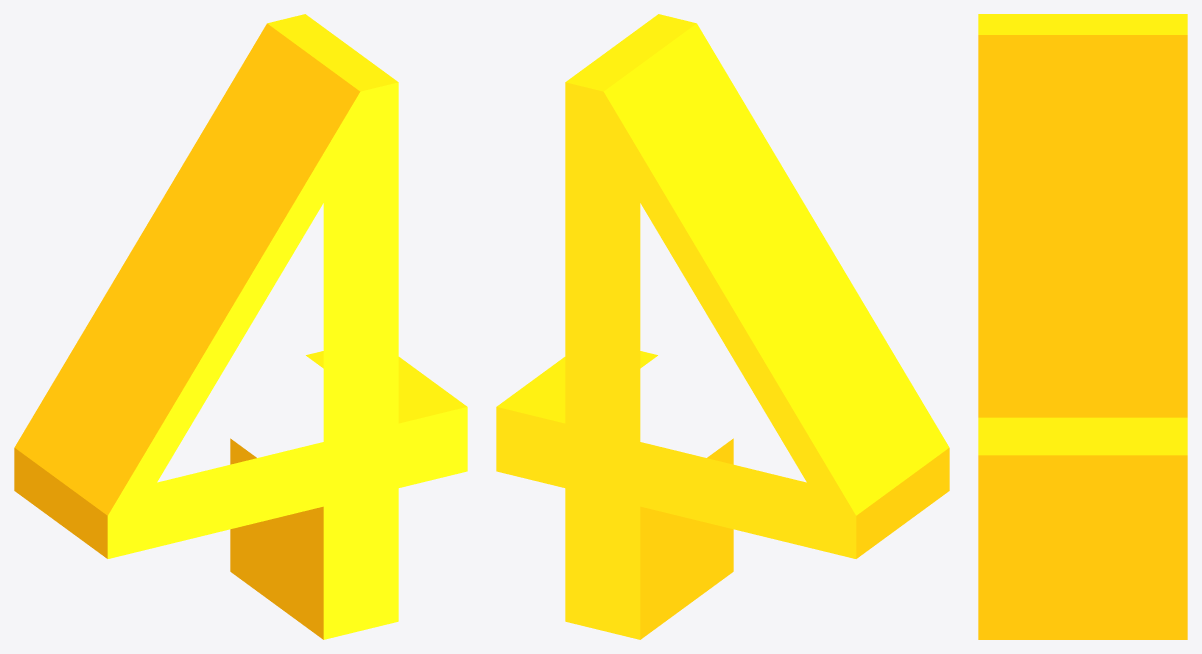
The picture shows the model from 3 angles, left to right: view 1: azimuth 30°, elevation 25°; view 2: azimuth 150°, elevation 25°; view 3: azimuth 270°, elevation 25°; orthographic projection. The views are drawn at different scales.
Parts seen in each view (by area): view 1: 4_Soul_Yellow; view 2: 4_Soul_Yellow; view 3: 4_Soul_Yellow.
Part boxes in pixels (x1,y1,x2,y2): 4_Soul_Yellow: (14,14,467,639); 4_Soul_Yellow: (496,14,949,639); 4_Soul_Yellow: (978,14,1187,639).
Size of what is drawn, in the model's own units: 0.1002 by 0.1435 by 0.045.
2 materials, 2 textured.
